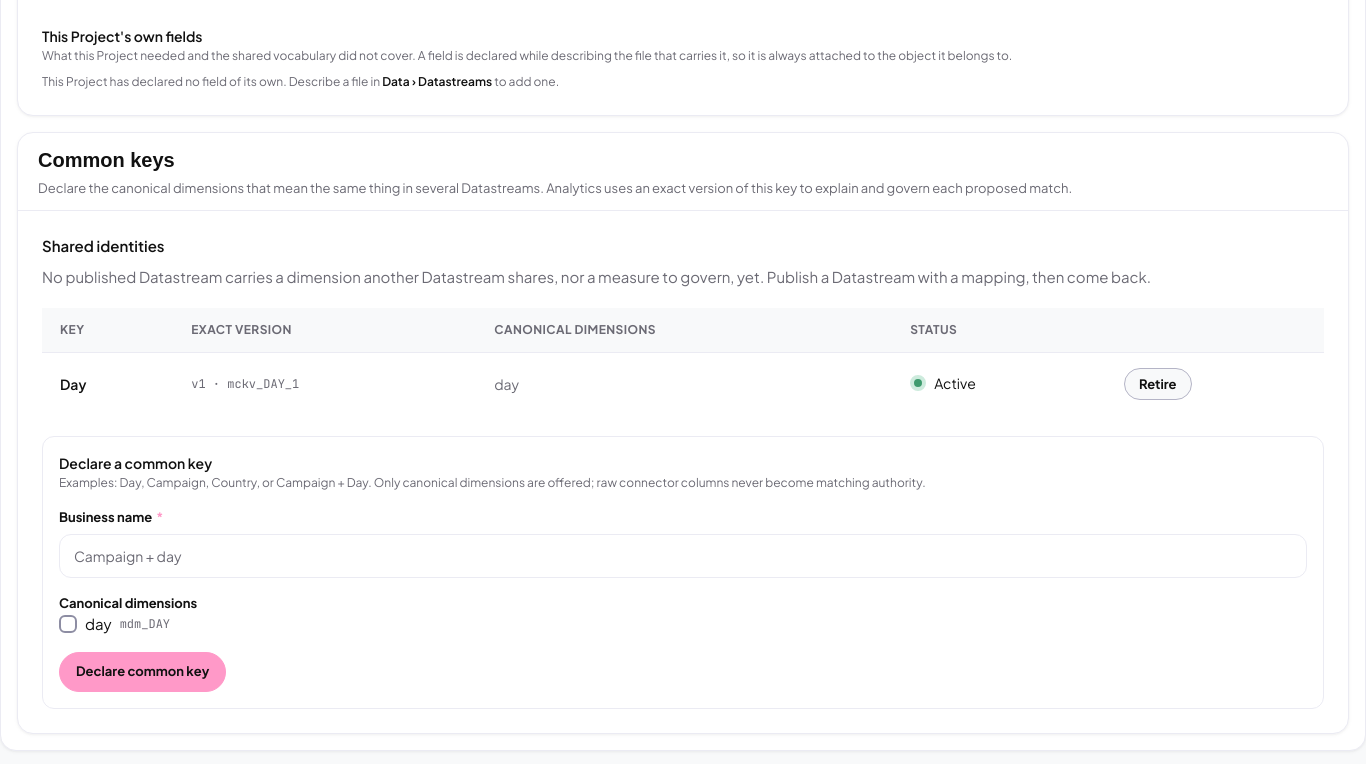
Scenario: a common key can be retired, which the route served and no control reached › never retires on one click — the confirmation says what archiving is NOT
(page scrolled)
Step 1. Click the button with test id "retire-common-key-mck_DAY" → (1158,384), box [1124,368,1192,400]
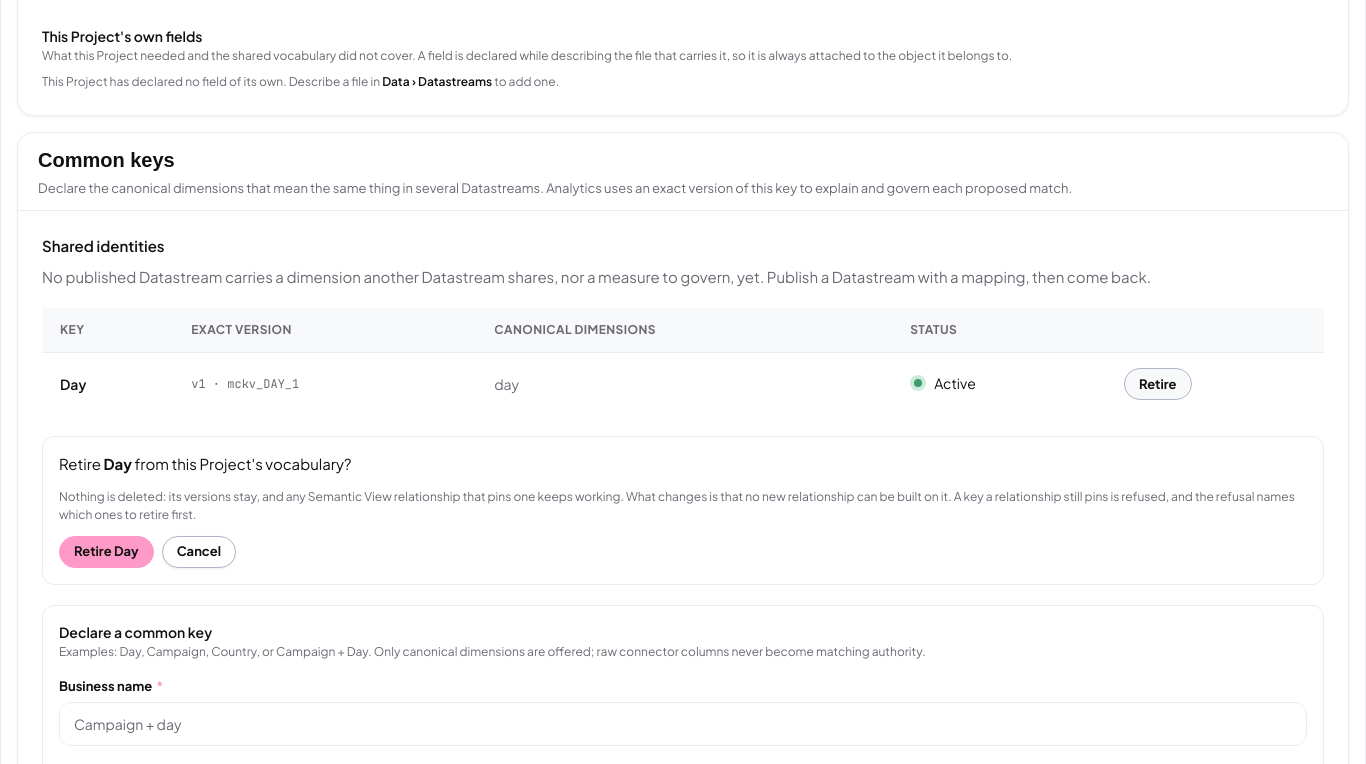
expect the element with test id "retire-common-key-confirm" is shown: met, box [42,436,1324,584]
expect the text "keeps working" is shown: met, box [59,488,1295,522]
